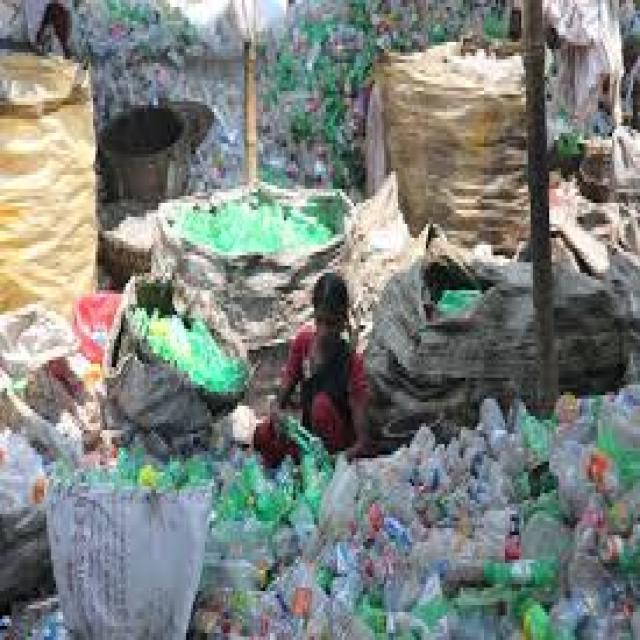garbage: (2, 28, 266, 636), (368, 0, 638, 441), (279, 426, 638, 636), (268, 133, 372, 273)
